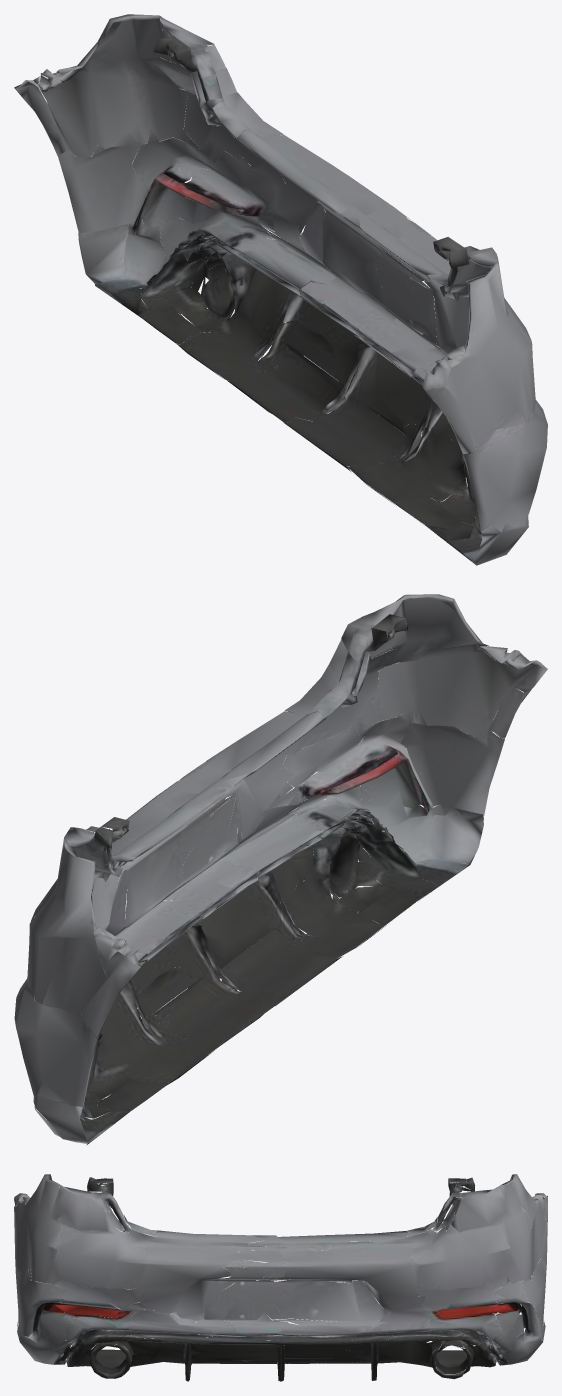
File: common_bumper_rear.glb
3 views of the same model, one above another, from view 1: azimuth 30°, elevation 25°; view 2: azimuth 150°, elevation 25°; view 3: azimuth 270°, elevation 25° (orthographic). The views are drawn at different scales.
Visible parts, largest first — view 1: tripo_node_8ef5c47a-d8cf-47a2-9824-2a708d4c2093; view 2: tripo_node_8ef5c47a-d8cf-47a2-9824-2a708d4c2093; view 3: tripo_node_8ef5c47a-d8cf-47a2-9824-2a708d4c2093.
Boxes of the visible parts, x1,y1,x2,y2 form: tripo_node_8ef5c47a-d8cf-47a2-9824-2a708d4c2093: (14, 14, 547, 565); tripo_node_8ef5c47a-d8cf-47a2-9824-2a708d4c2093: (14, 594, 547, 1145); tripo_node_8ef5c47a-d8cf-47a2-9824-2a708d4c2093: (14, 1174, 547, 1381).
Size of the model in its own units: 0.2581 by 0.3813 by 1.
1 material, 1 textured.
